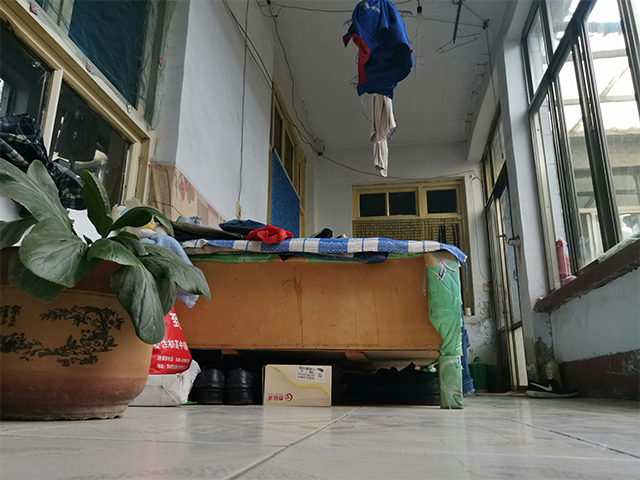bed: (173, 231, 476, 411)
